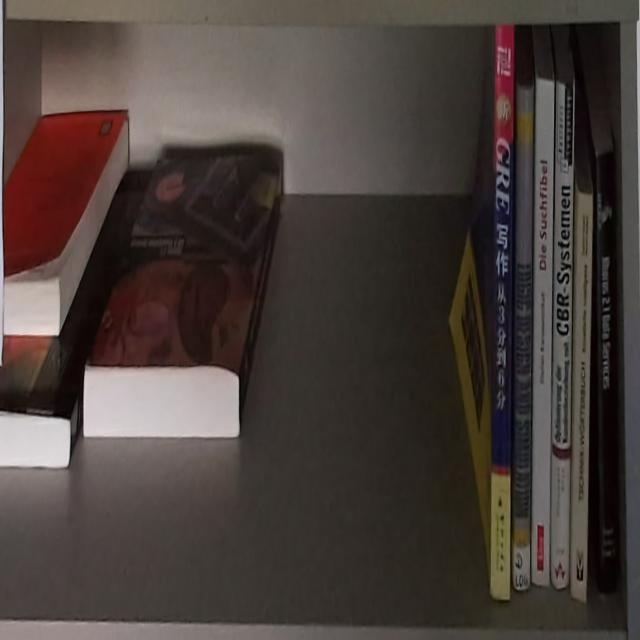Book Spine: (490, 26, 516, 605), (529, 76, 557, 586), (238, 153, 287, 436), (551, 83, 576, 592), (591, 139, 618, 595), (512, 83, 533, 591), (571, 187, 595, 605)
